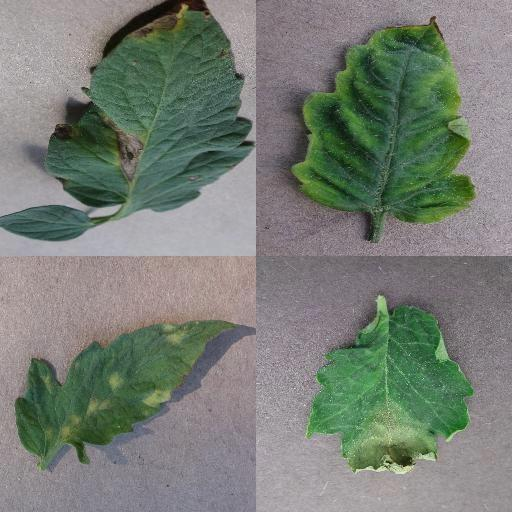Early Blight: (43, 2, 256, 211)
Healthy: (0, 203, 90, 242)
Late Blight: (304, 302, 474, 476)
Leaf Mold: (17, 319, 236, 463)
Yellow Leaf Curl Virus: (290, 14, 476, 226)
